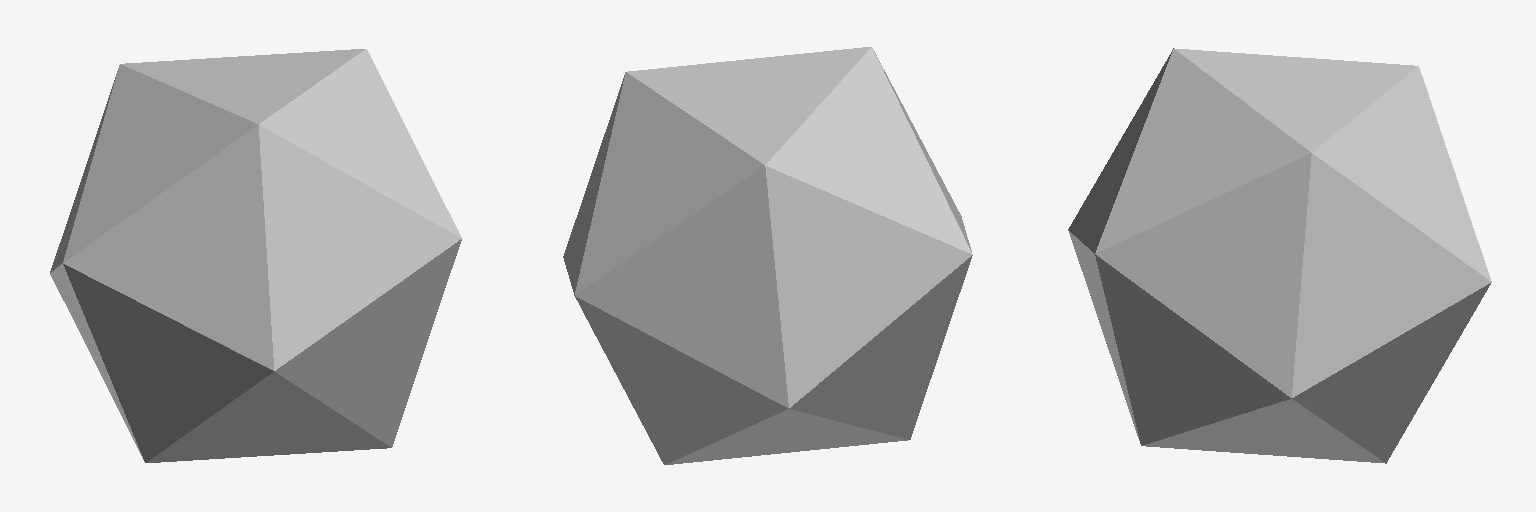
Rendered from conn05.obj.
3 renders of one model, left to right at view 1: azimuth 30°, elevation 25°; view 2: azimuth 150°, elevation 25°; view 3: azimuth 270°, elevation 25°, orthographic.
Parts seen in each view (by area): view 1: conn07:pPlatonic1; view 2: conn07:pPlatonic1; view 3: conn07:pPlatonic1.
Boxes of the visible parts, box(x1,y1,x2,y2) form: conn07:pPlatonic1: box(50, 49, 461, 462); conn07:pPlatonic1: box(563, 47, 972, 464); conn07:pPlatonic1: box(1068, 48, 1491, 463).
Size of the model in its own units: 17.97 by 15.78 by 16.57.